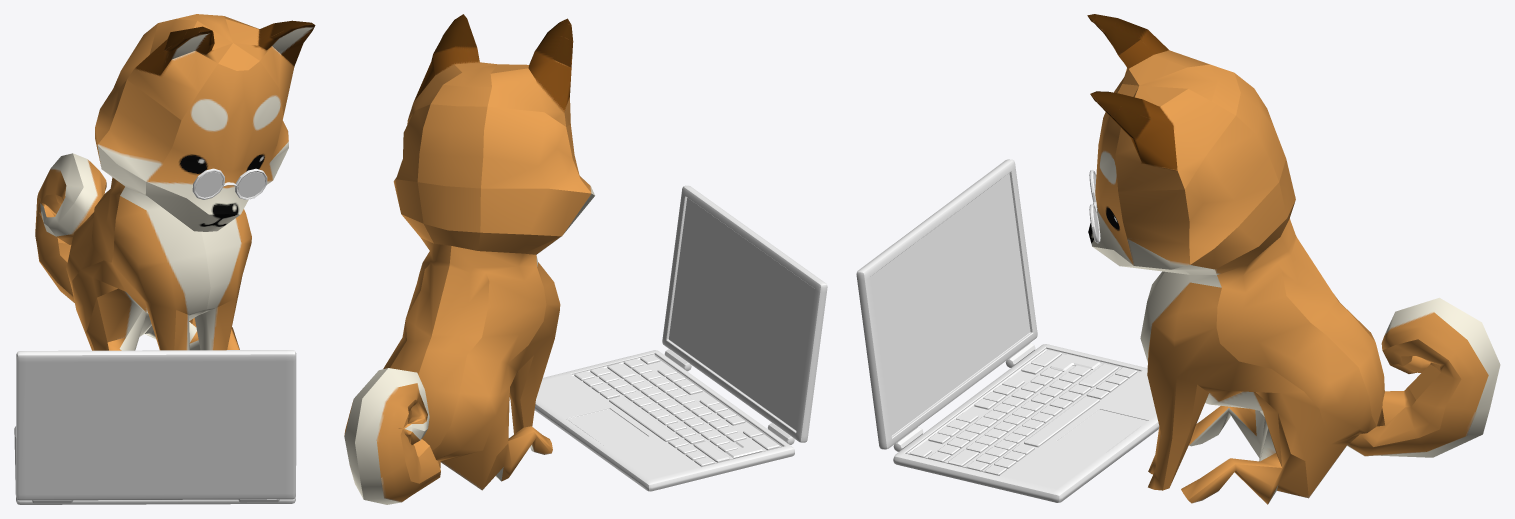
The model's file is computerWorkGlasses_frame1.obj.
3 renders of one model, left to right at view 1: azimuth 30°, elevation 25°; view 2: azimuth 150°, elevation 25°; view 3: azimuth 270°, elevation 25°, orthographic. The views are drawn at different scales.
Visible parts, largest first — view 1: Sitting:newRigging:BodzL1, Computer:pCylinder3, StudyBrille:StudyBrille:pCylinder5; view 2: Sitting:newRigging:BodzL1, Computer:pCylinder3; view 3: Sitting:newRigging:BodzL1, Computer:pCylinder3.
Boxes of the visible parts, left/top/right/bottom form: Sitting:newRigging:BodzL1: left=35, top=14, right=315, bottom=350; Computer:pCylinder3: left=14, top=350, right=296, bottom=504; StudyBrille:StudyBrille:pCylinder5: left=192, top=168, right=267, bottom=199; Sitting:newRigging:BodzL1: left=344, top=14, right=594, bottom=504; Computer:pCylinder3: left=534, top=185, right=827, bottom=491; Sitting:newRigging:BodzL1: left=1087, top=14, right=1500, bottom=504; Computer:pCylinder3: left=856, top=159, right=1159, bottom=502.
Bounding box in the file's own units: 7.04 × 7.78 × 10.05.
Materials: 7 (1 with a texture image).
